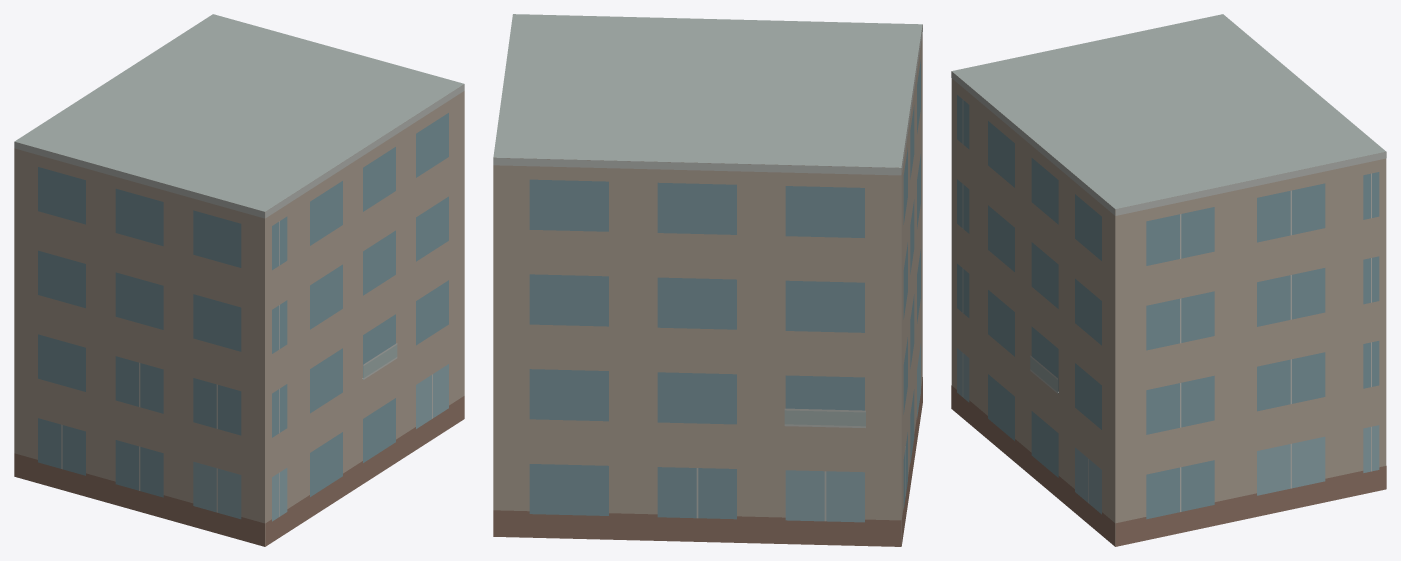
File: survey-upis-32744226.glb
3 views of the same model, side by side, from view 1: azimuth 30°, elevation 25°; view 2: azimuth 150°, elevation 25°; view 3: azimuth 270°, elevation 25° (orthographic). The views are drawn at different scales.
Parts seen in each view (by area): view 1: survey-upis-32744226.tmp; view 2: survey-upis-32744226.tmp; view 3: survey-upis-32744226.tmp.
Boxes of the visible parts, x1,y1,x2,y2 form: survey-upis-32744226.tmp: (14, 14, 464, 546); survey-upis-32744226.tmp: (493, 14, 922, 546); survey-upis-32744226.tmp: (951, 14, 1386, 546).
Bounding box in the file's own units: 15.04 × 12.12 × 14.16.
